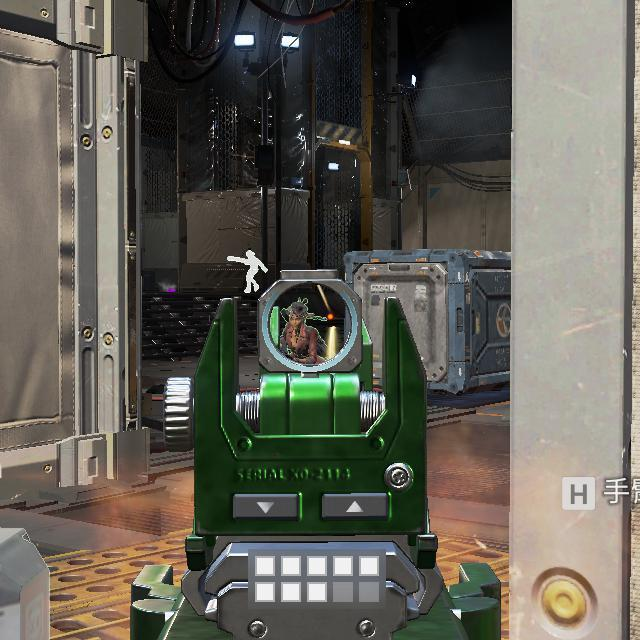avatar: (277, 295, 329, 366)
